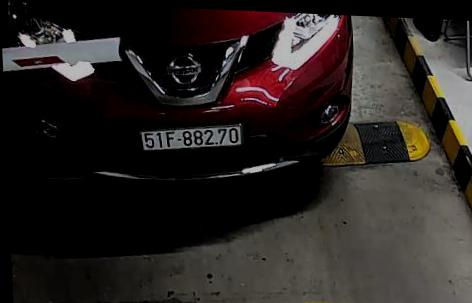License_Plate: (138, 122, 244, 156)
